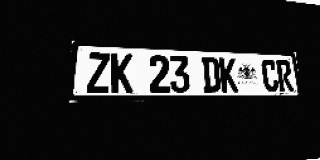2: (149, 55, 170, 93)
3: (169, 55, 190, 93)
C: (261, 59, 279, 92)
D: (201, 57, 221, 92)
K: (111, 53, 133, 93), (219, 57, 238, 92)
R: (276, 60, 294, 92)
Z: (87, 52, 110, 93)
